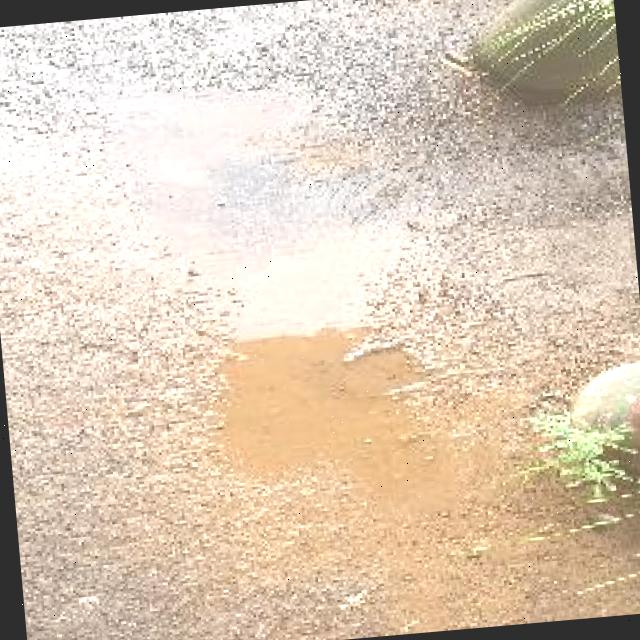waterlogging: (206, 285, 478, 510)
